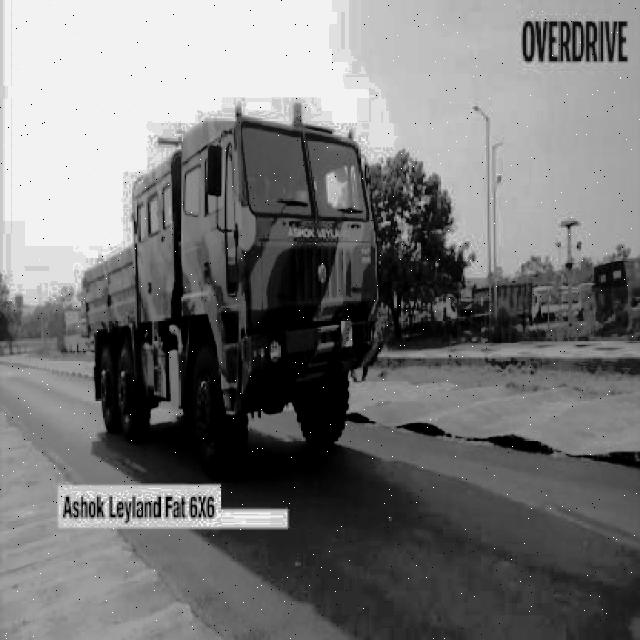HCV: (57, 144, 378, 448)
